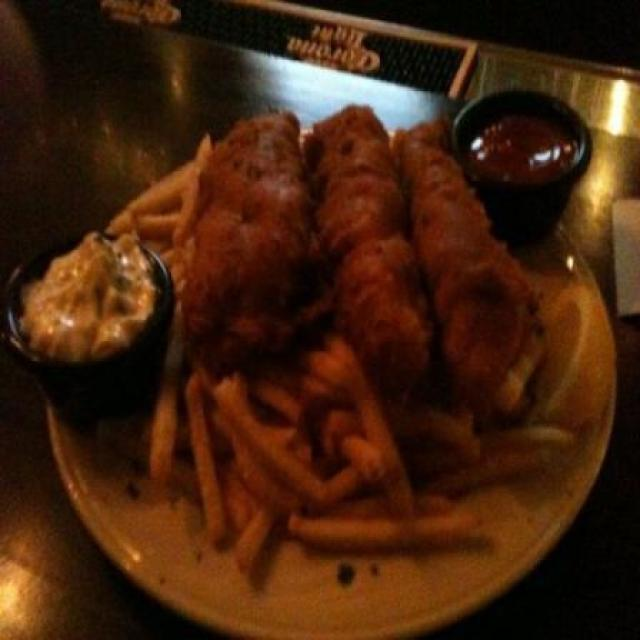Fish: (185, 109, 548, 398)
